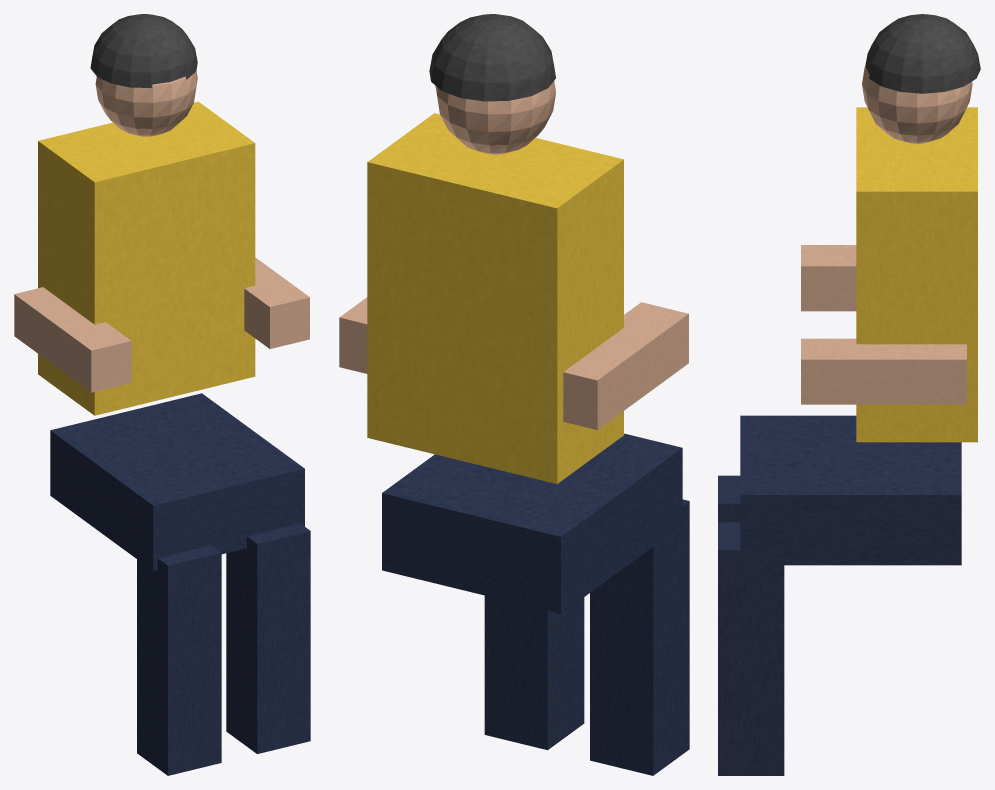
File: Espectador2.obj
3 renders of one model, left to right at view 1: azimuth 30°, elevation 25°; view 2: azimuth 150°, elevation 25°; view 3: azimuth 270°, elevation 25°, orthographic. The views are drawn at different scales.
Size of the model in its own units: 0.49 by 1.43 by 0.475.
1 material, 1 textured.
